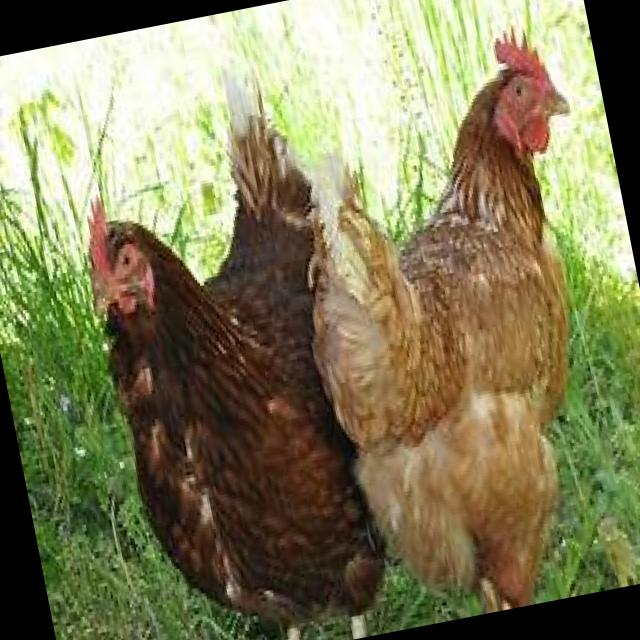chicken: (256, 14, 640, 633), (51, 51, 404, 640)
